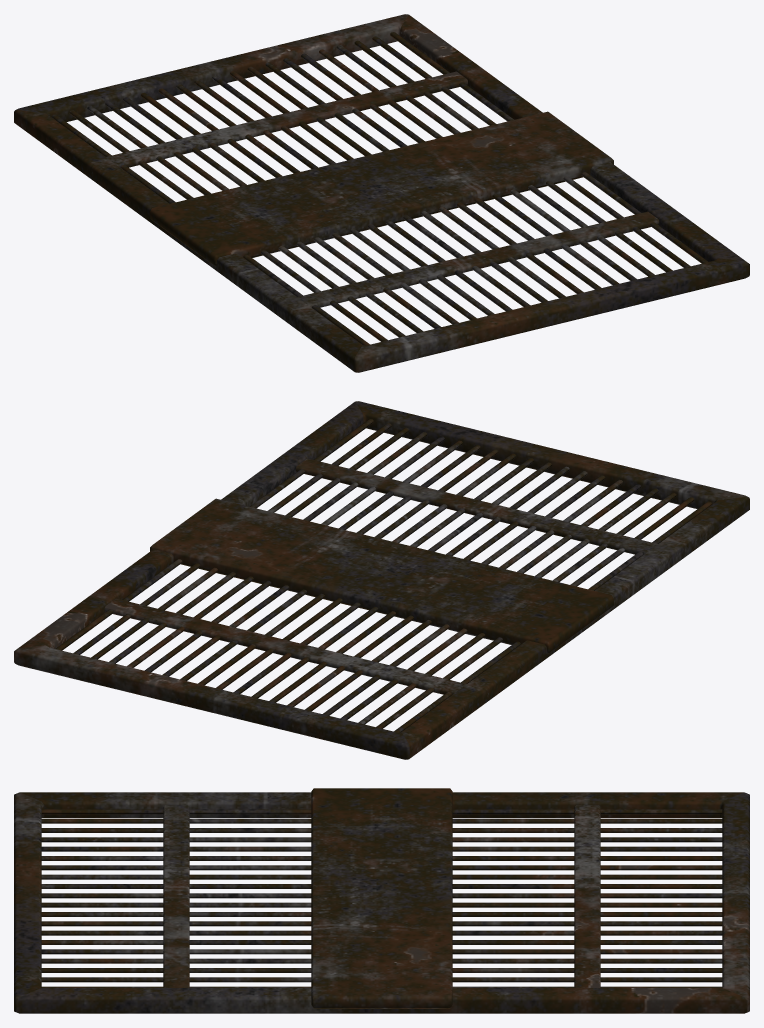
File: Basement_Corridor_A_Floor_Vent_Grill_2m.glb
3 renders of one model, top to bottom at view 1: azimuth 30°, elevation 25°; view 2: azimuth 150°, elevation 25°; view 3: azimuth 270°, elevation 25°, orthographic. The views are drawn at different scales.
Parts seen in each view (by area): view 1: Basement_Corridor_A_Floor_Vent_Grill_2m; view 2: Basement_Corridor_A_Floor_Vent_Grill_2m; view 3: Basement_Corridor_A_Floor_Vent_Grill_2m.
Part boxes in pixels (left/top/right/bottom): Basement_Corridor_A_Floor_Vent_Grill_2m: left=14, top=14, right=749, bottom=372; Basement_Corridor_A_Floor_Vent_Grill_2m: left=14, top=401, right=749, bottom=759; Basement_Corridor_A_Floor_Vent_Grill_2m: left=14, top=788, right=749, bottom=1013.
Size of the model in its own units: 1.35 by 0.0585 by 2.
Materials: 1 (1 with a texture image).
